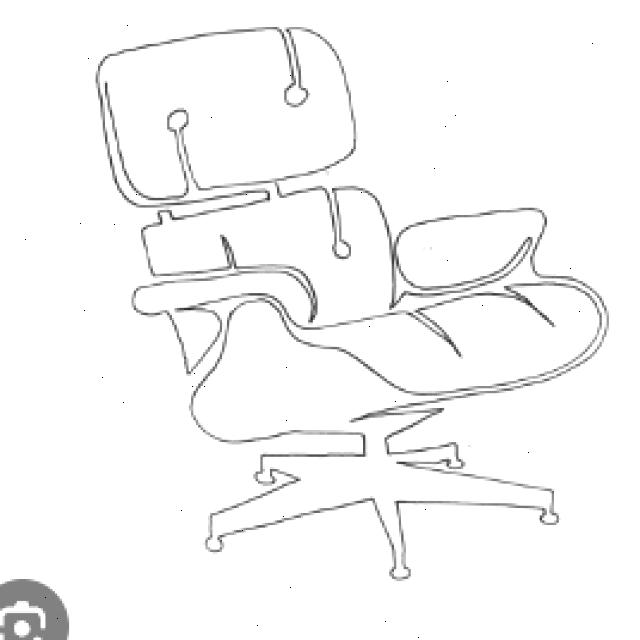Backrest: (130, 170, 401, 317)
Eames_base: (190, 436, 591, 598)
Eames_lounge: (121, 253, 336, 389), (387, 195, 560, 307)
Headrest: (86, 18, 373, 219)
Seat: (171, 271, 625, 459)
